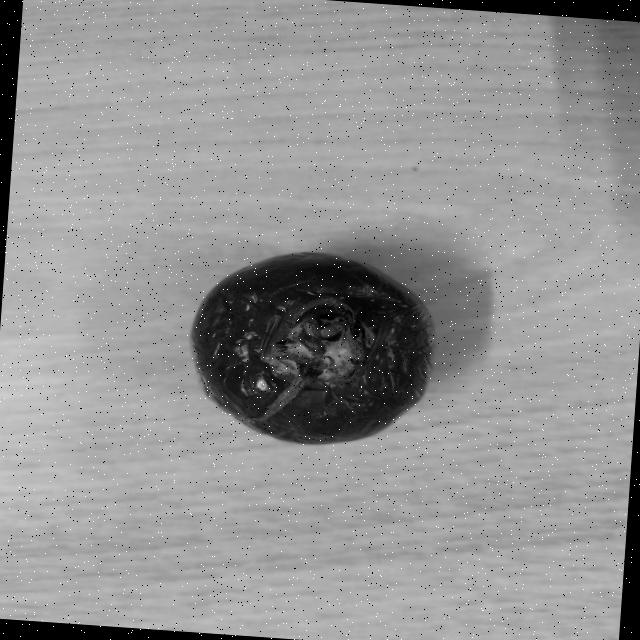Rotten: (182, 244, 437, 455)
